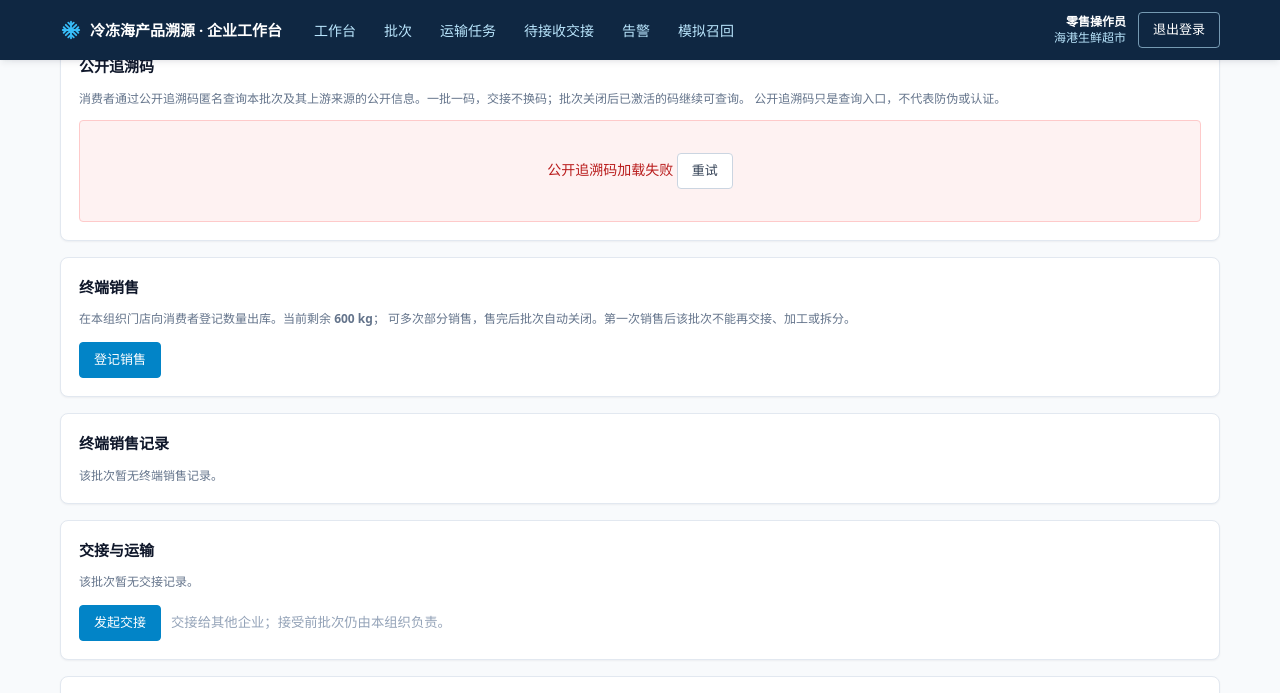
Test case: Sale form › submits a whitelisted payload with CSRF + Idempotency-Key, refreshes the batch, lists the sale and hides transfer after the first sale
This screenshot has width=1280, height=693.
(page scrolled)
expect the link with test id "initiate-transfer" is shown: met, box x1=79 y1=605 x2=161 y2=641
Click the button with test id "sale-start": (120, 360) x1=79 y1=342 x2=161 y2=378
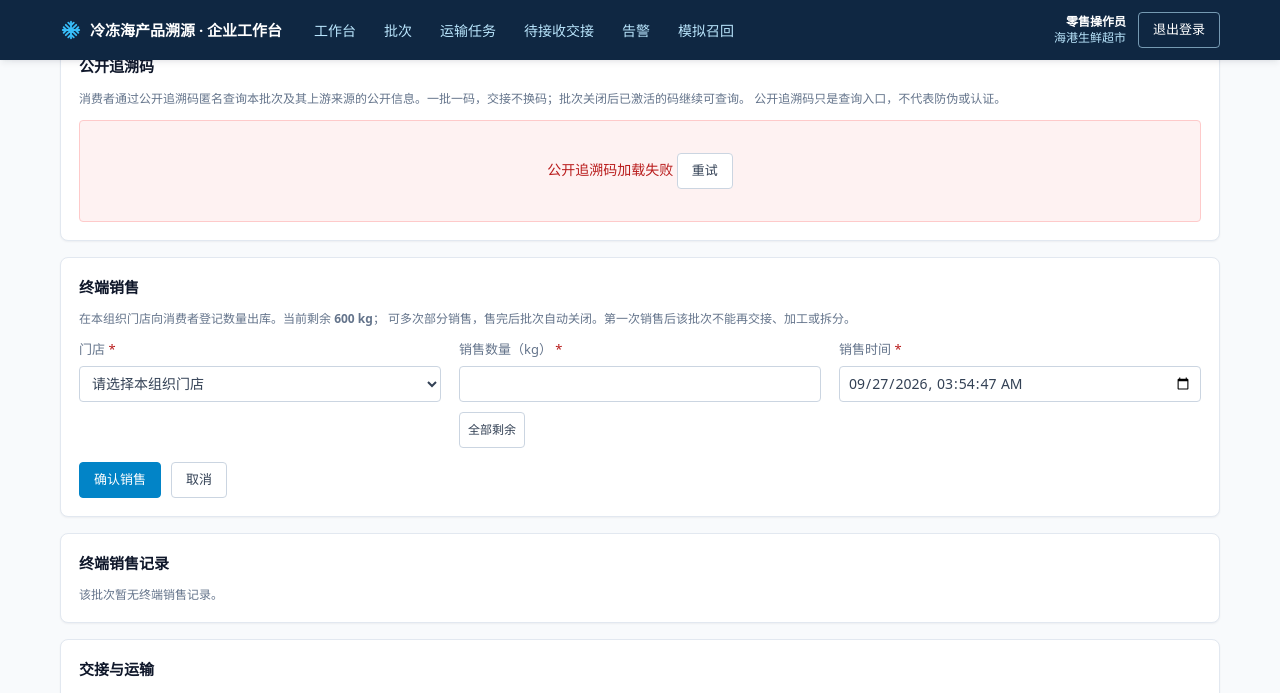
Select "海港一号门店（RT-STORE）" in the dropdown with test id "field-sale-site": (260, 384) x1=79 y1=366 x2=441 y2=402
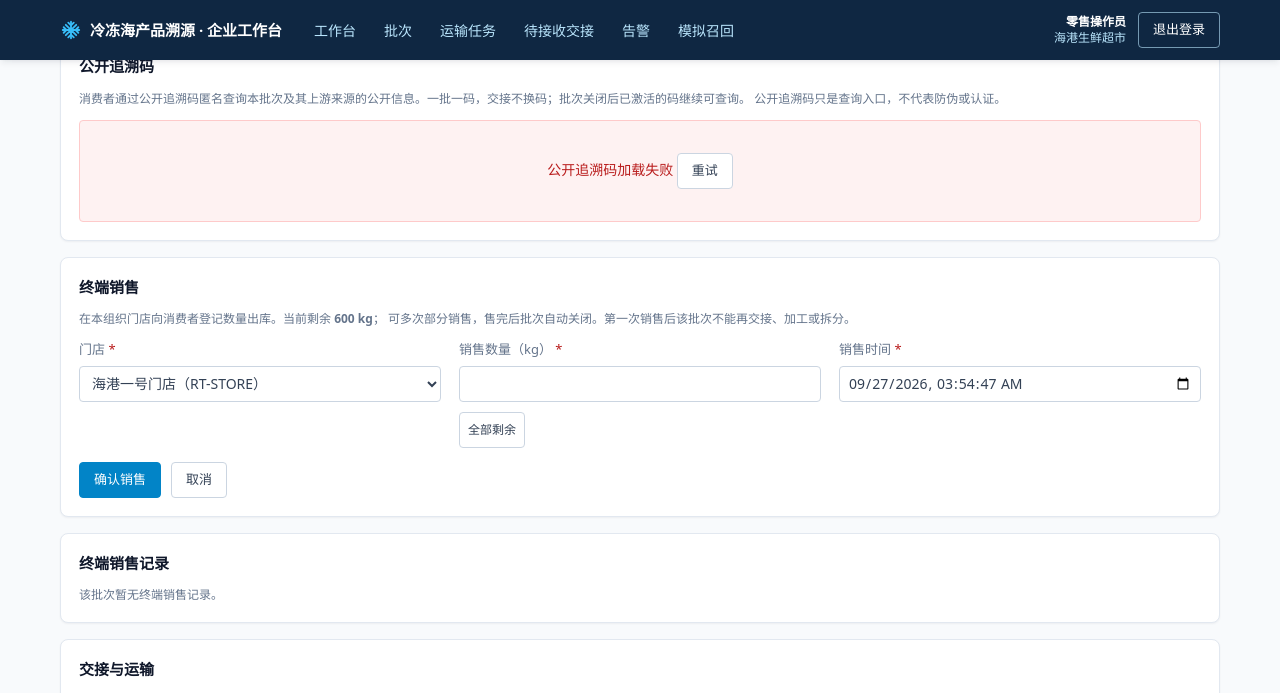
In the number field with test id "field-sale-quantity": (640, 384) x1=459 y1=366 x2=821 y2=402, type "200"
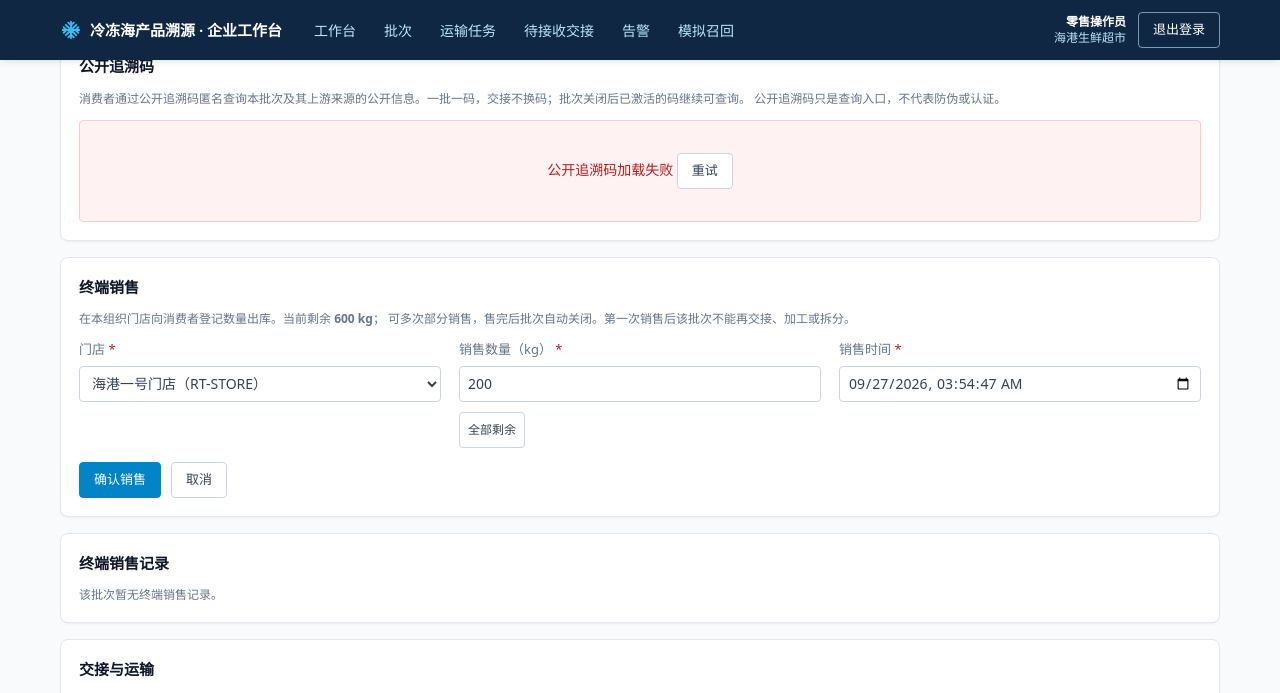
Submit the form with test id "sale-form", box x1=79 y1=340 x2=1201 y2=498
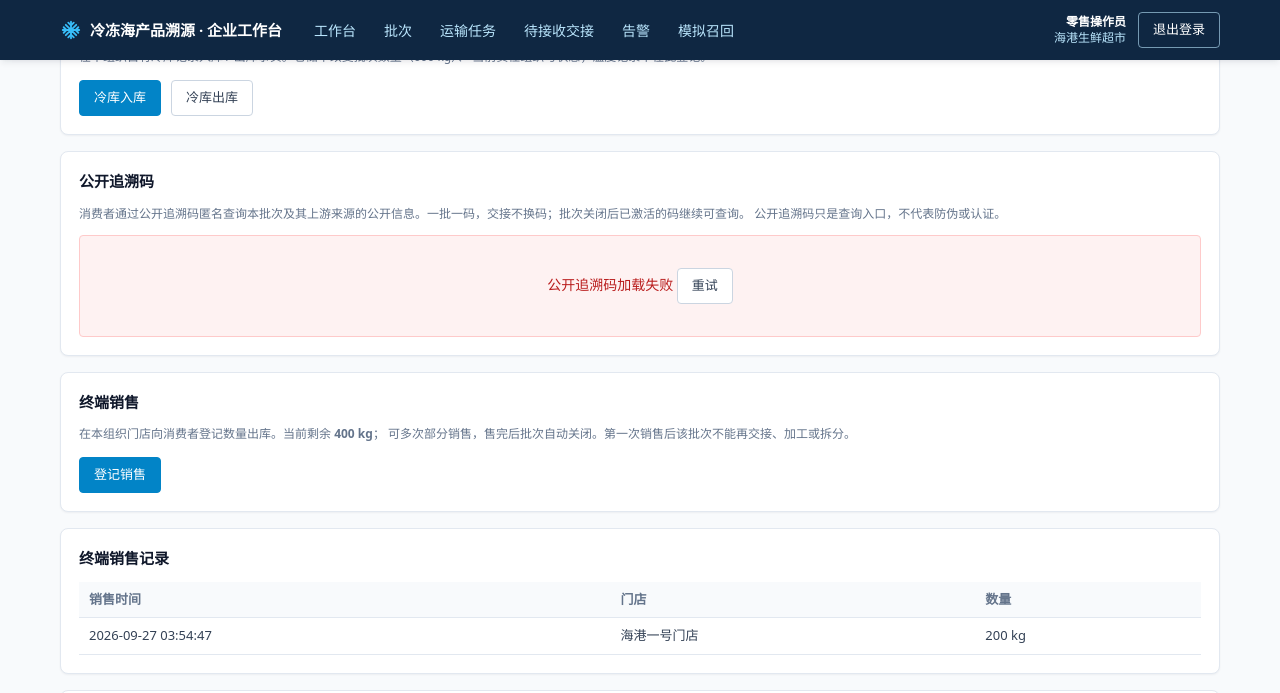
expect the element with test id "sale-panel" is shown: met, box x1=60 y1=372 x2=1220 y2=512
expect the number of rows with test id "sale-row" is 1: met, box x1=79 y1=618 x2=1201 y2=654
expect the text with test id "sale-remaining" reads "400 kg": met, box x1=334 y1=425 x2=373 y2=442
